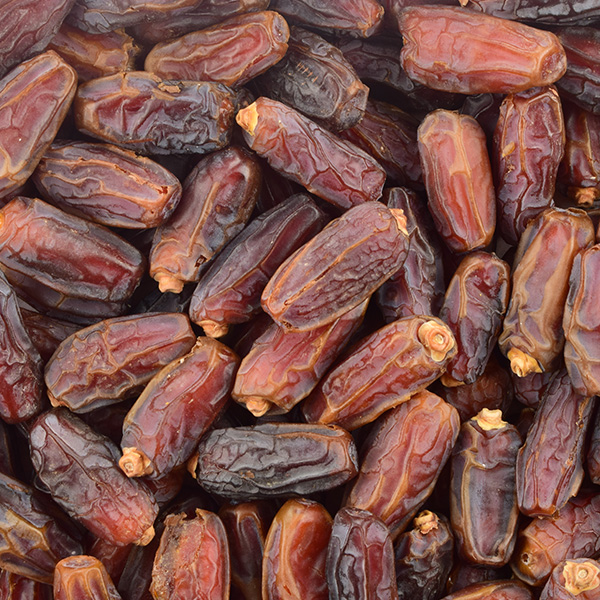hurmaa: (409, 108, 505, 251)
